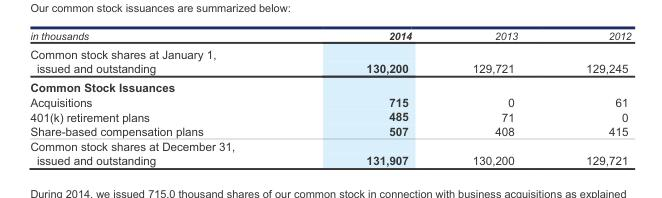table: (29, 29, 630, 166)
table column: (29, 29, 284, 166), (284, 29, 441, 166), (441, 29, 551, 166), (551, 29, 630, 166)
table column header: (29, 29, 630, 44)
table projected row header: (29, 77, 630, 94), (29, 44, 630, 60), (29, 138, 630, 152)
table row: (29, 60, 630, 77), (29, 77, 630, 94), (29, 44, 630, 60), (29, 29, 630, 44), (29, 94, 630, 109), (29, 123, 630, 138), (29, 109, 630, 123), (29, 138, 630, 152), (29, 152, 630, 166)
